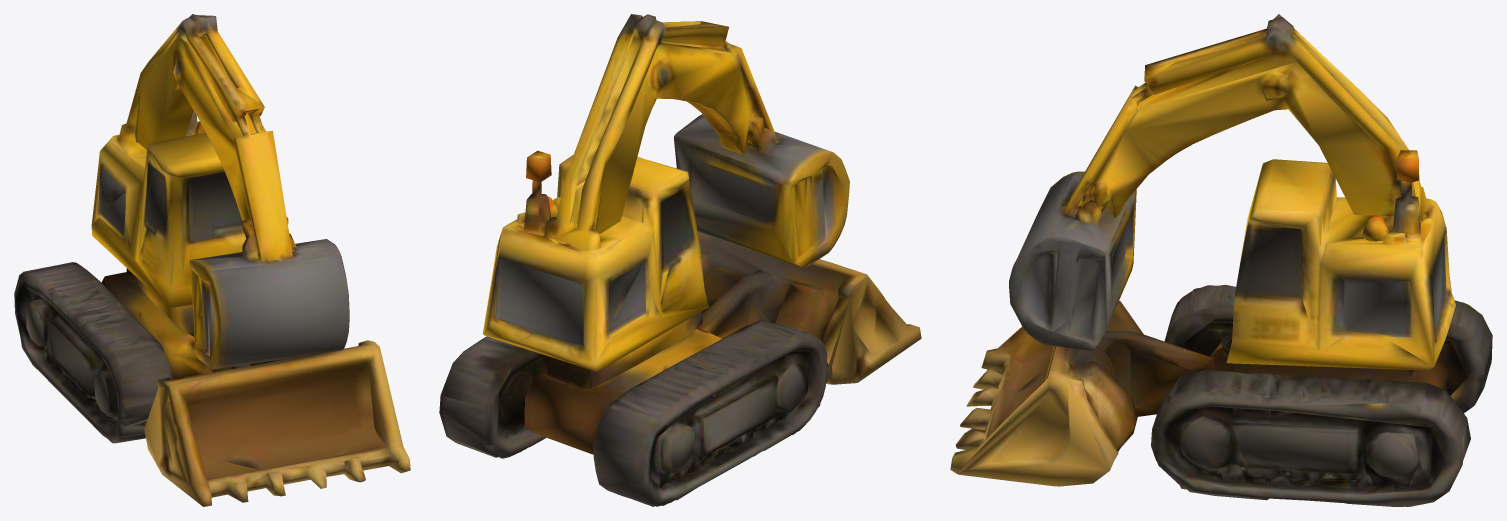
File: crawler_crane_github.glb
3 views of the same model, side by side, from view 1: azimuth 30°, elevation 25°; view 2: azimuth 150°, elevation 25°; view 3: azimuth 270°, elevation 25° (orthographic). The views are drawn at different scales.
Parts seen in each view (by area): view 1: crawler_crane_github; view 2: crawler_crane_github; view 3: crawler_crane_github.
Part boxes in pixels (<box>): crawler_crane_github: <box>14,14,410,506</box>; crawler_crane_github: <box>439,14,921,506</box>; crawler_crane_github: <box>950,14,1492,506</box>.
Bounding box in the file's own units: 0.2043 × 0.3132 × 0.356.
Materials: 1 (1 with a texture image).
